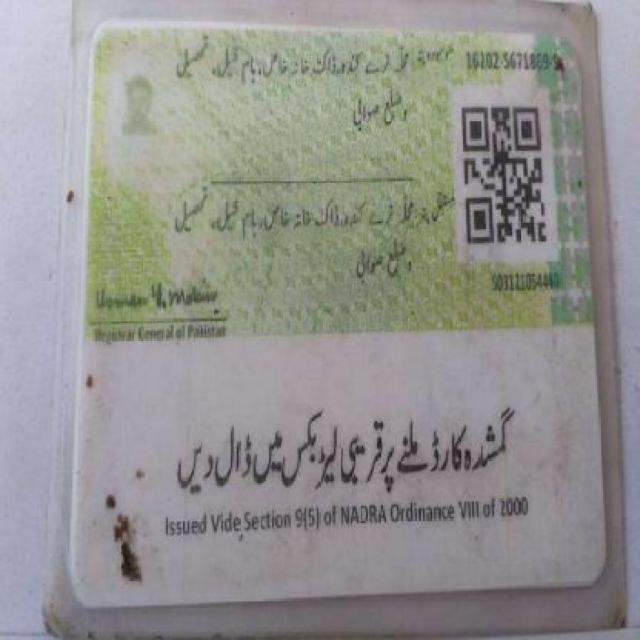Back: (74, 14, 612, 600)
